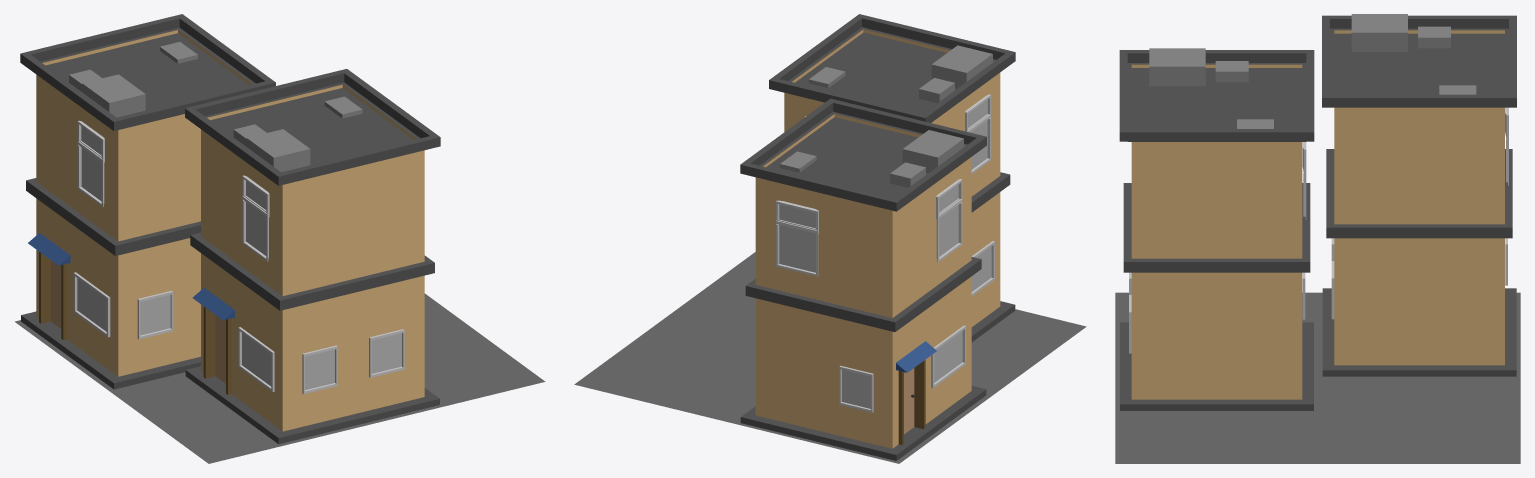
File: house_high.gltf
3 renders of one model, left to right at view 1: azimuth 30°, elevation 25°; view 2: azimuth 150°, elevation 25°; view 3: azimuth 270°, elevation 25°, orthographic. The views are drawn at different scales.
Parts seen in each view (by area): view 1: Haus - Hoch.001, Haus - Hoch; view 2: Haus - Hoch, Haus - Hoch.001; view 3: Haus - Hoch, Haus - Hoch.001.
Part boxes in pixels (bbox=[...]): Haus - Hoch.001: bbox=[185, 69, 440, 444]; Haus - Hoch: bbox=[15, 14, 545, 463]; Haus - Hoch: bbox=[574, 98, 1086, 463]; Haus - Hoch.001: bbox=[769, 14, 1015, 342]; Haus - Hoch: bbox=[1115, 14, 1520, 463]; Haus - Hoch.001: bbox=[1119, 48, 1314, 410].
Size of the model in its own units: 20 by 15.58 by 20.
